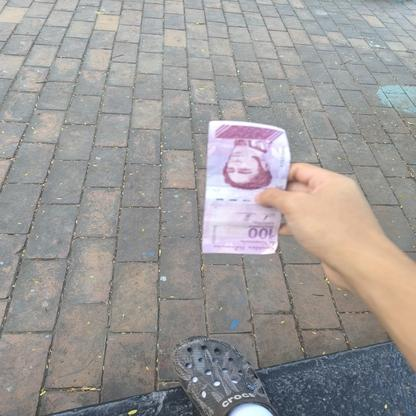one_hundred-front-vef: (200, 121, 290, 254)
